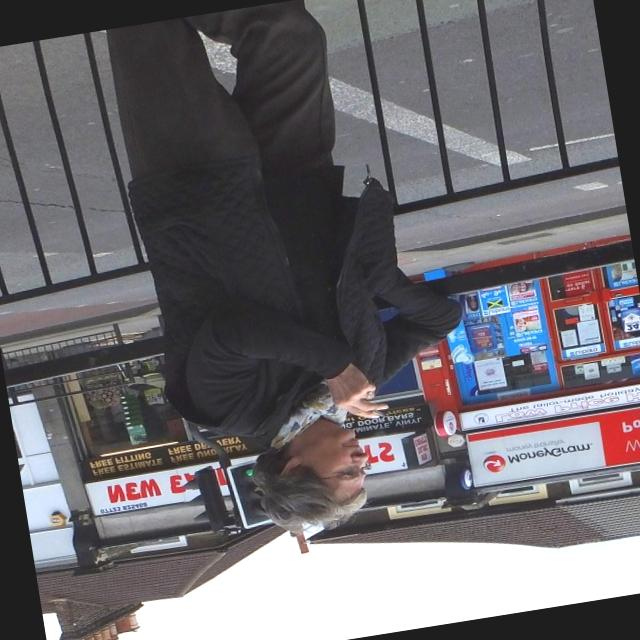cigarette: (364, 401, 393, 424)
